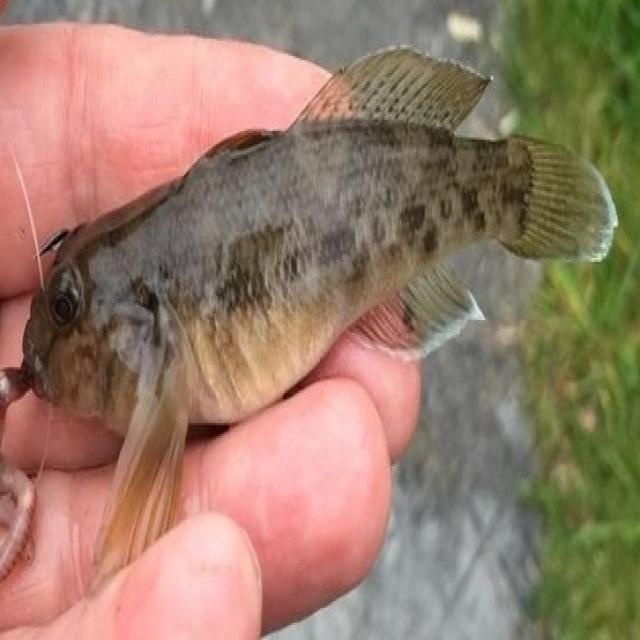Goby: (14, 30, 636, 522)
